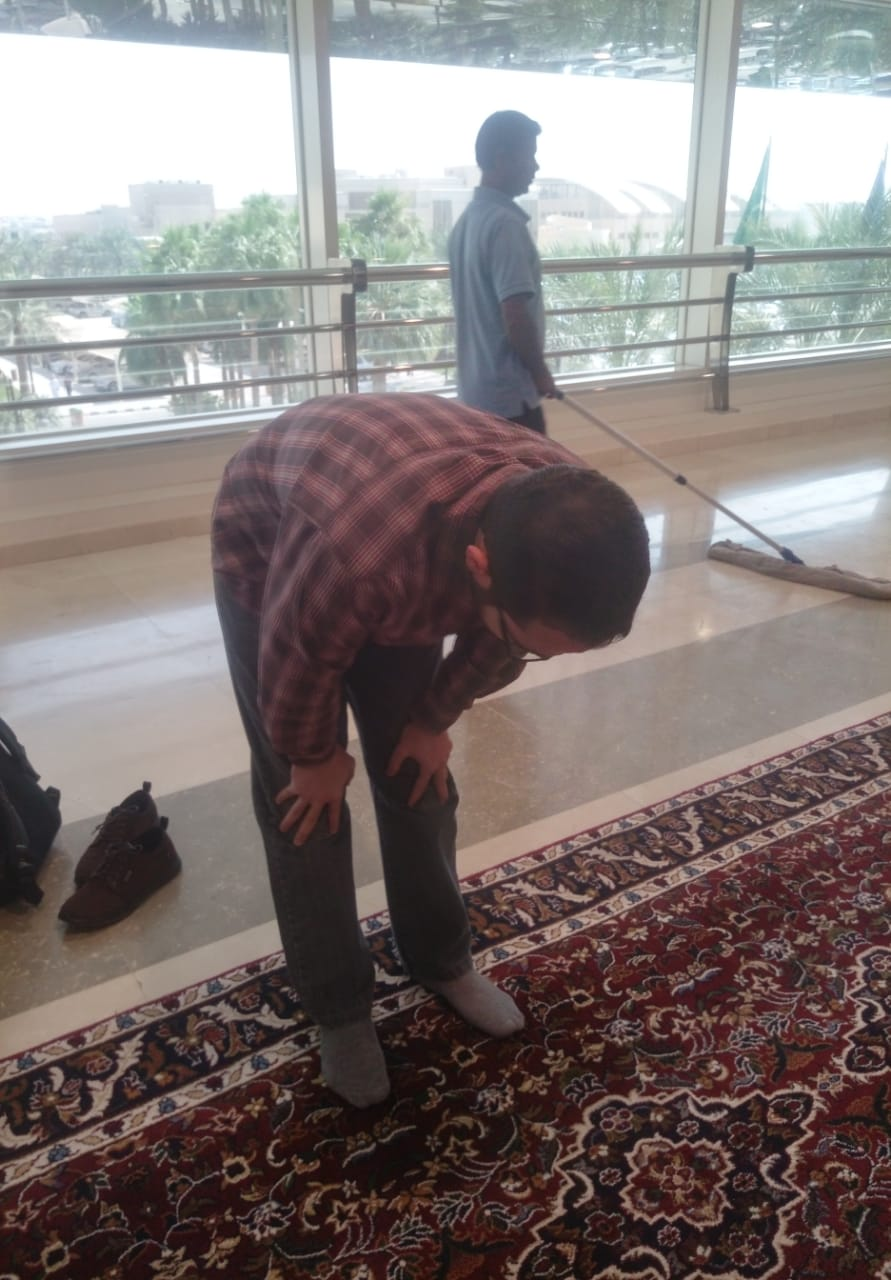ruku: (157, 357, 796, 1146)
